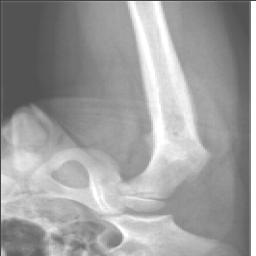cancer: (133, 32, 205, 174)
